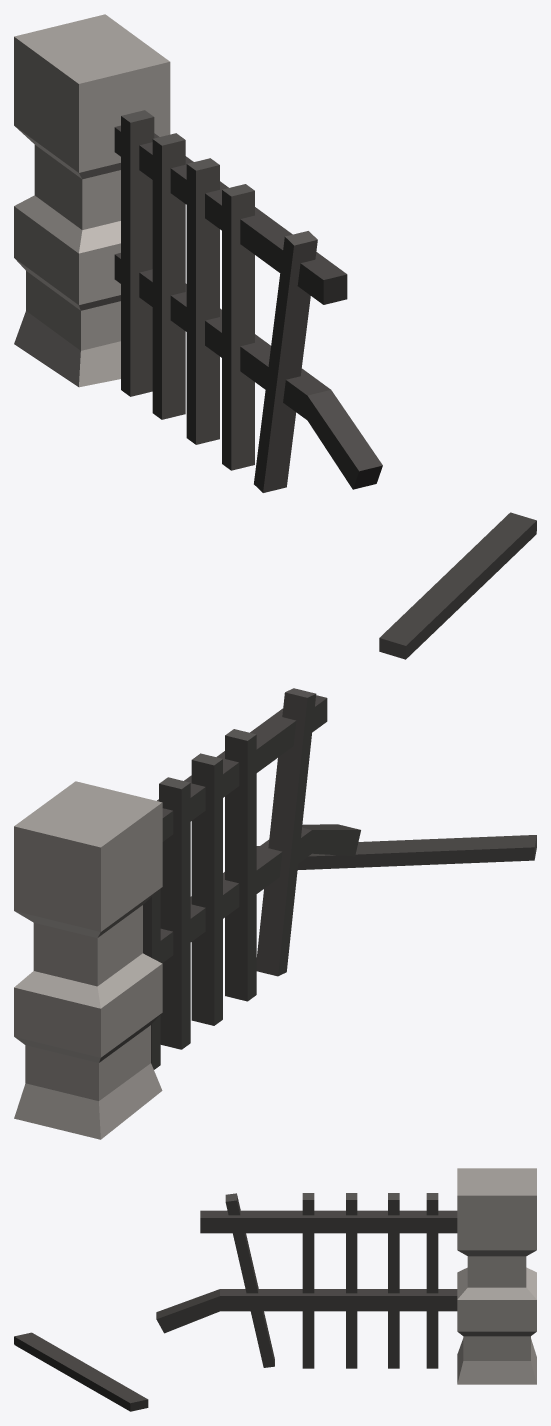
Rendered from Fence_Iron_Damaged_03.fbx.
The picture shows the model from 3 angles, top to bottom: view 1: azimuth 30°, elevation 25°; view 2: azimuth 150°, elevation 25°; view 3: azimuth 270°, elevation 25°; orthographic projection. The views are drawn at different scales.
Visible parts, largest first — view 1: Fence_Iron_Damaged_03; view 2: Fence_Iron_Damaged_03; view 3: Fence_Iron_Damaged_03.
Boxes of the visible parts, x1,y1,x2,y2 form: Fence_Iron_Damaged_03: [14, 14, 536, 659]; Fence_Iron_Damaged_03: [14, 688, 536, 1139]; Fence_Iron_Damaged_03: [14, 1168, 536, 1411].
Size of the model in its own units: 1.26 by 3.9 by 1.56.
